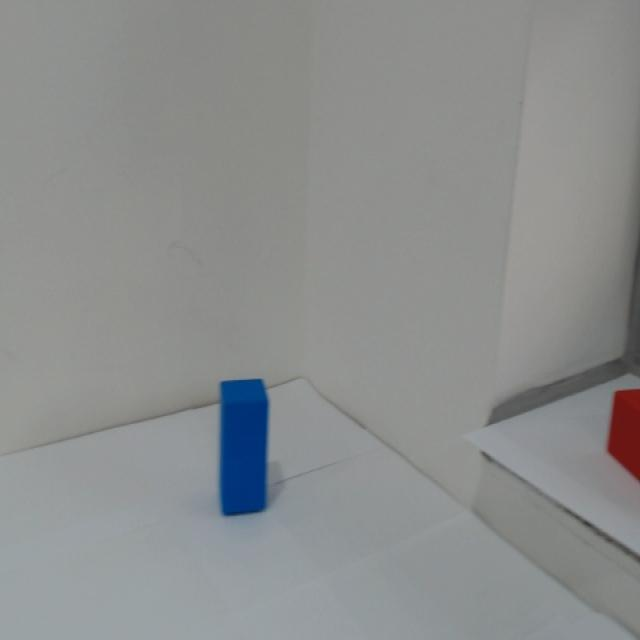cube: (215, 380, 276, 555)
